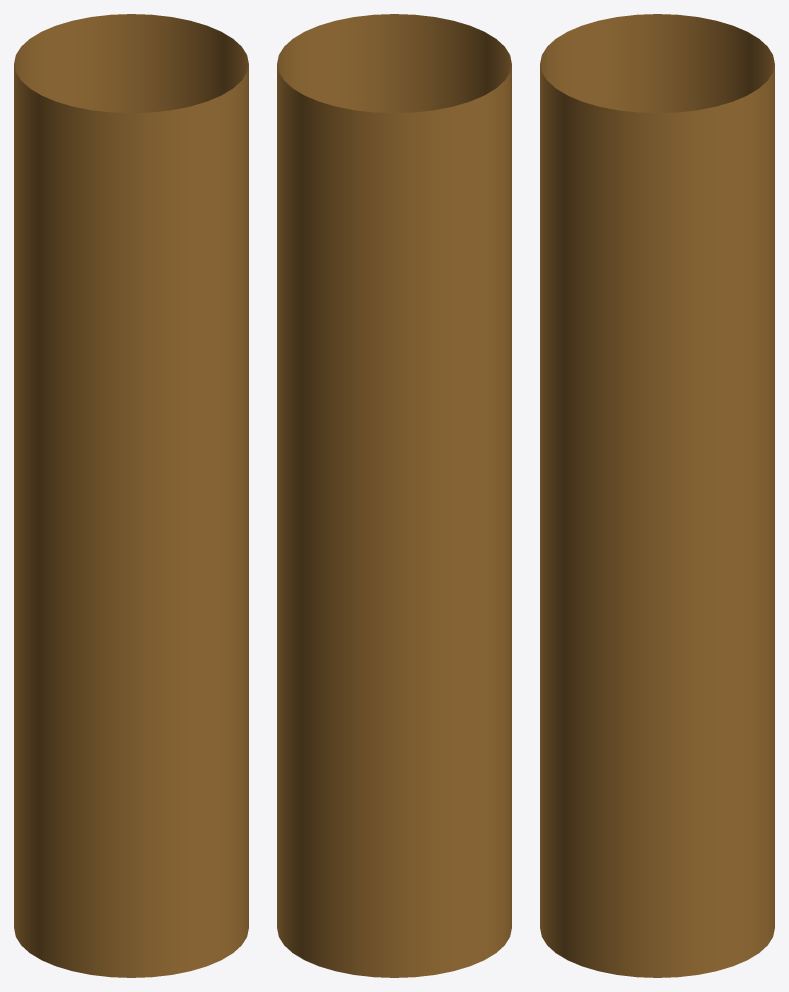
File: Pipe_Straight_Short.fbx
The picture shows the model from 3 angles, left to right: view 1: azimuth 30°, elevation 25°; view 2: azimuth 150°, elevation 25°; view 3: azimuth 270°, elevation 25°; orthographic projection.
Parts seen in each view (by area): view 1: Pipe_Straight_Short; view 2: Pipe_Straight_Short; view 3: Pipe_Straight_Short.
Boxes of the visible parts, <box> form: Pipe_Straight_Short: <box>14,14,248,977</box>; Pipe_Straight_Short: <box>277,14,511,977</box>; Pipe_Straight_Short: <box>540,14,774,977</box>.
Bounding box in the file's own units: 16 × 65.02 × 16.
